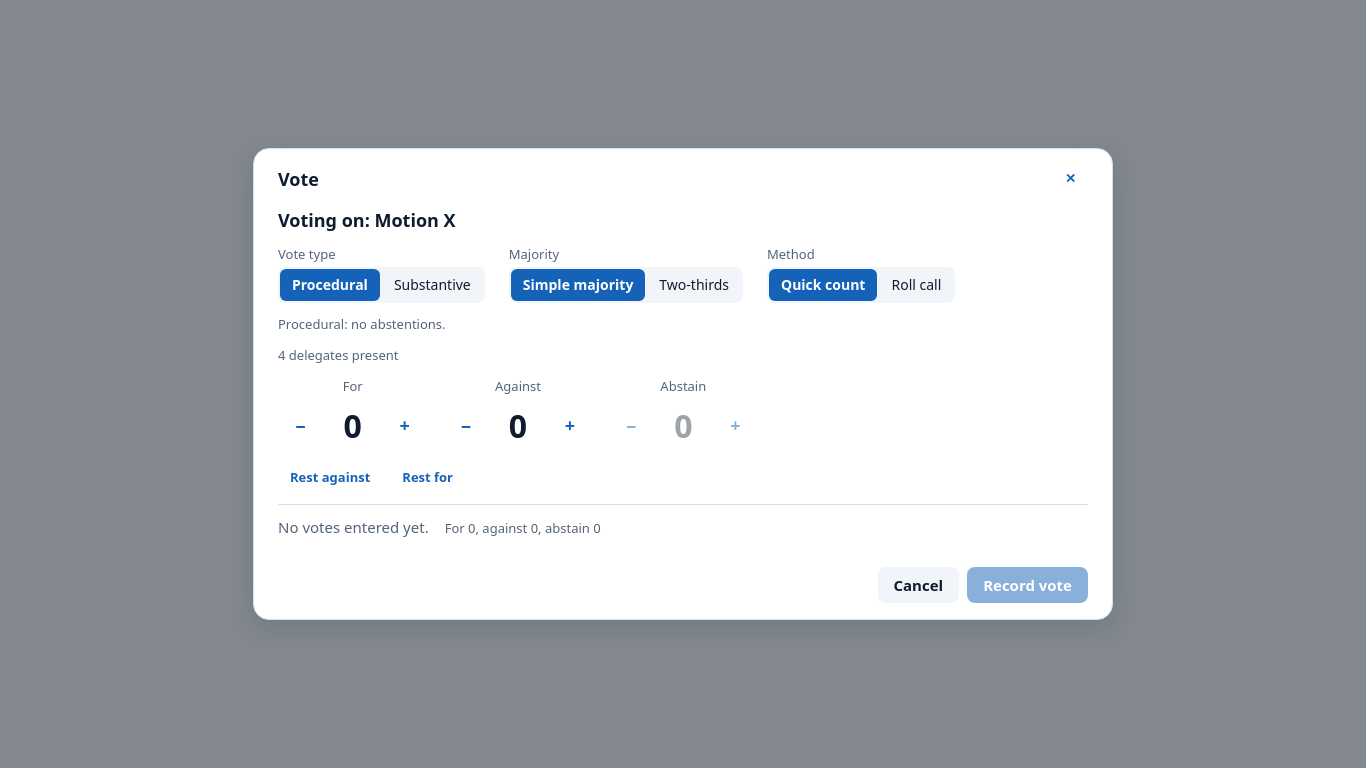
Test: VoteModal › previews pass and fail
Replace the text in the number field named "For" with "3": (353, 426) [321, 400, 385, 452]
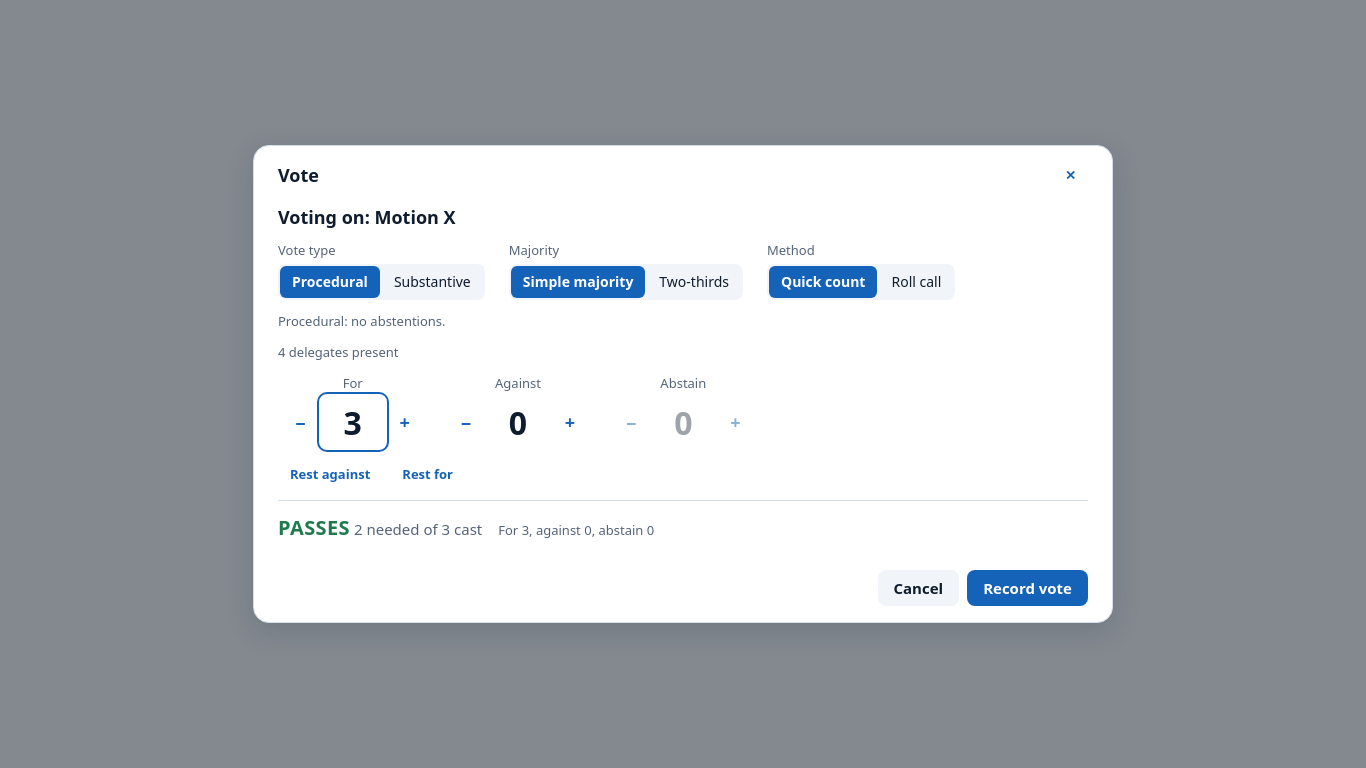
Replace the text in the number field named "Against" with "1": (518, 422) [486, 396, 550, 448]
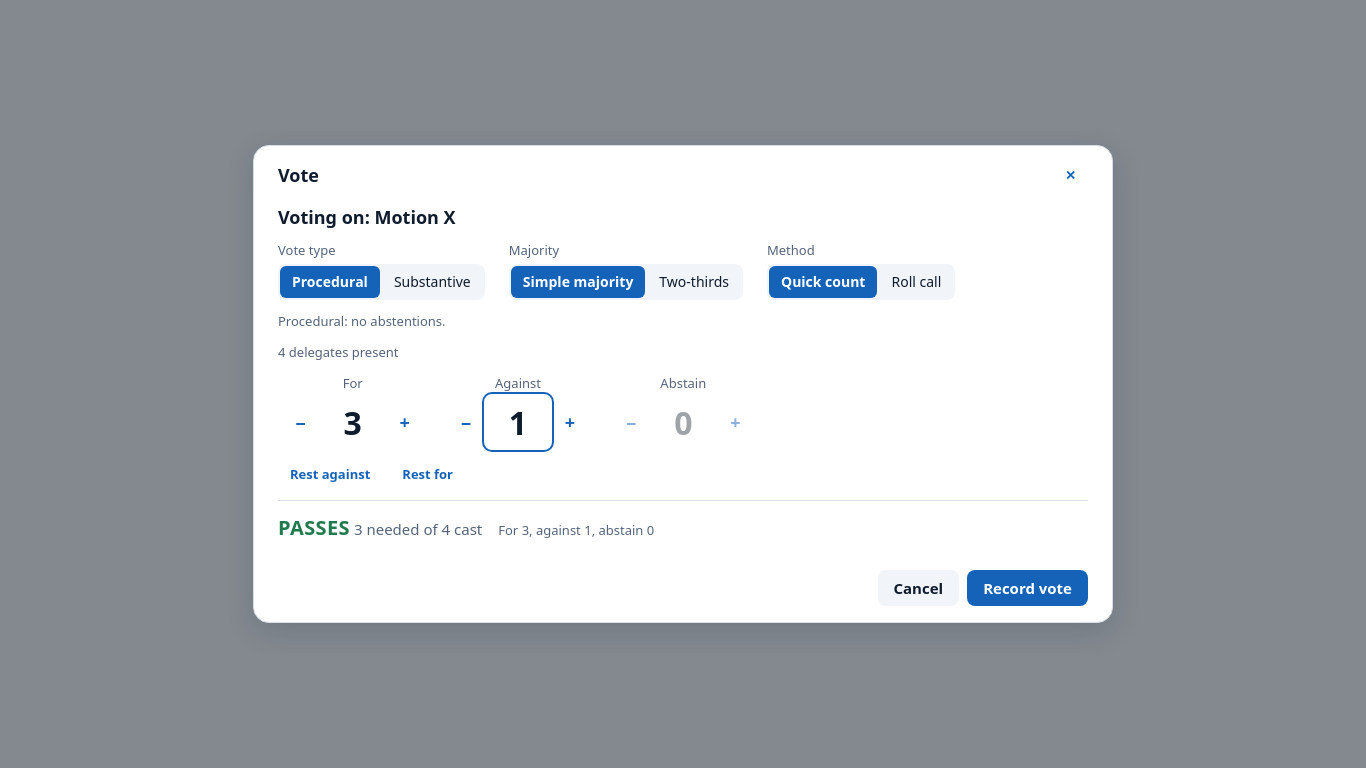
Result: the message shows "PASSES" at [278, 514, 350, 541]
Result: the message shows "3 needed of 4 cast" at [350, 519, 482, 539]
Replace the text in the number field named "For" with "2": (353, 422) [321, 396, 385, 448]
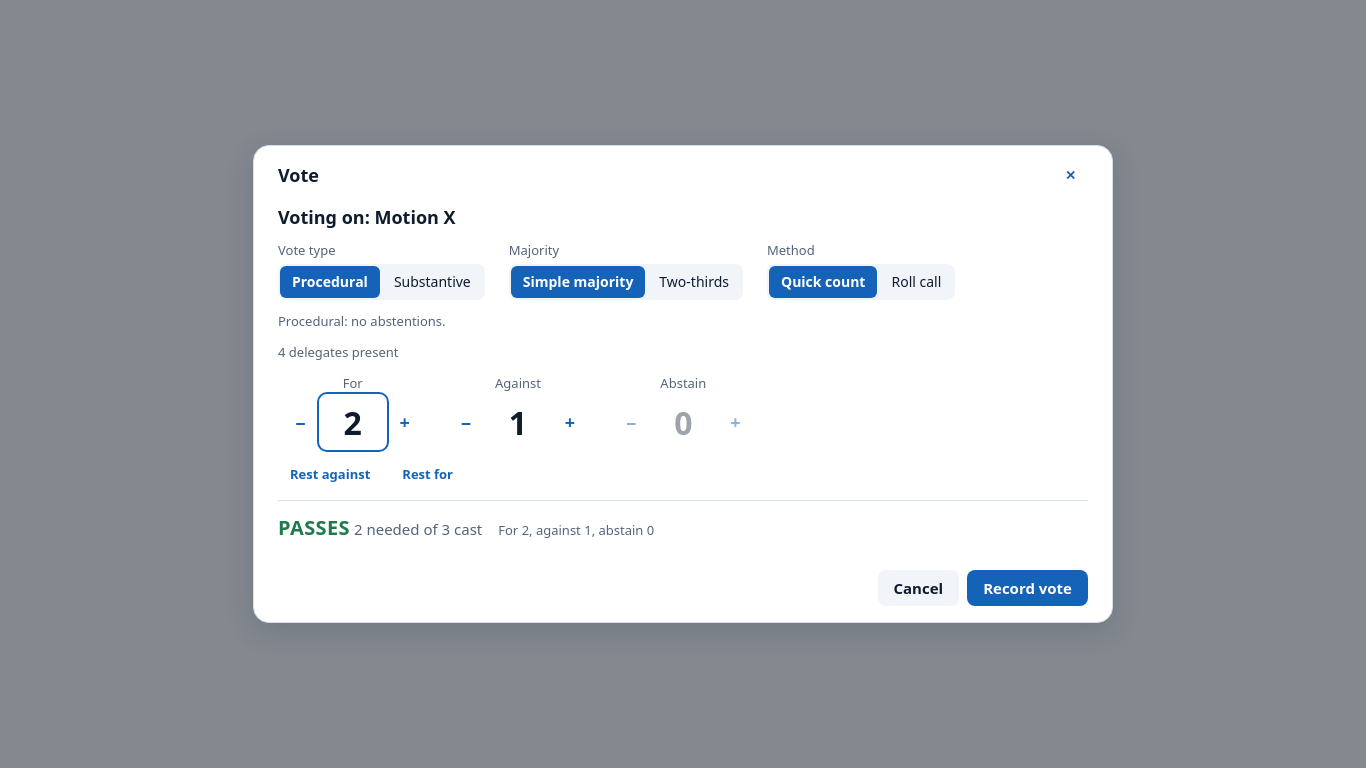
Replace the text in the number field named "Against" with "2": (518, 422) [486, 396, 550, 448]
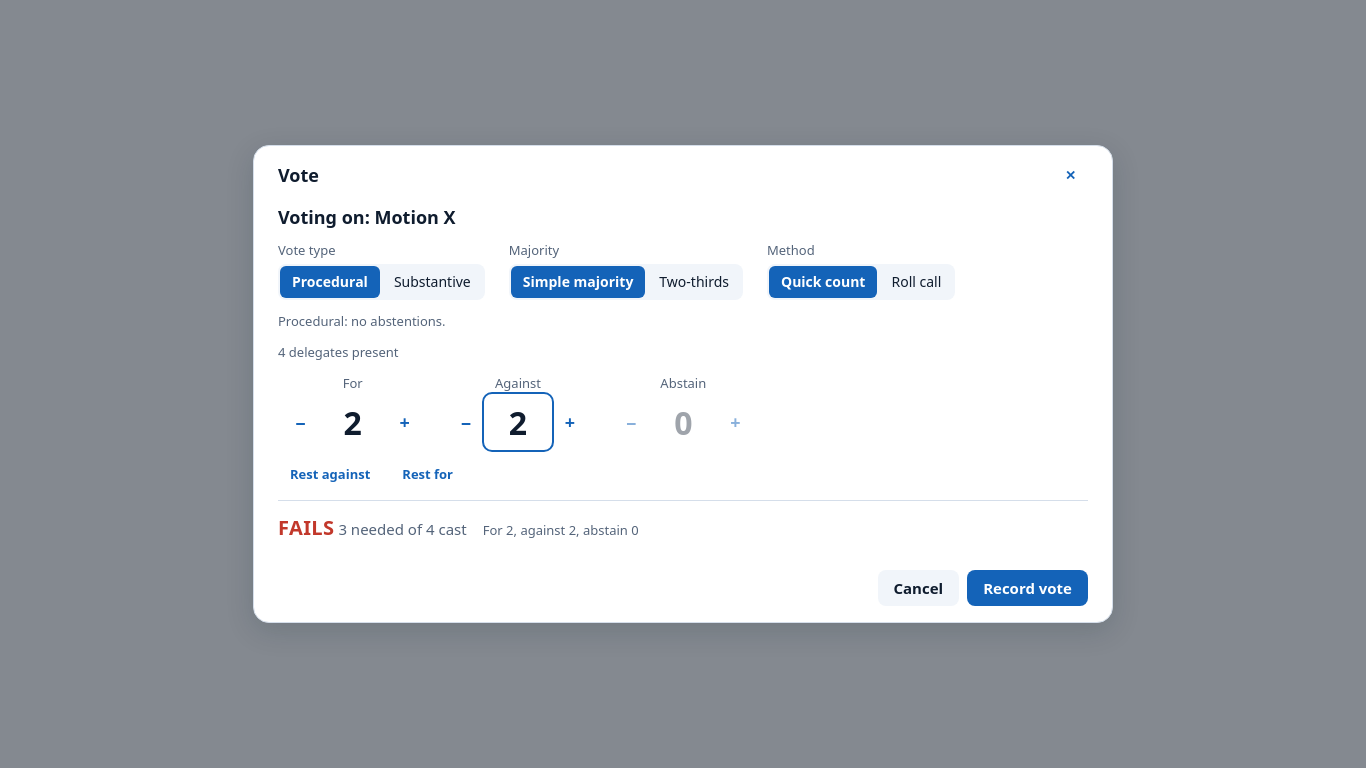
Result: the message shows "FAILS" at [278, 514, 334, 541]
